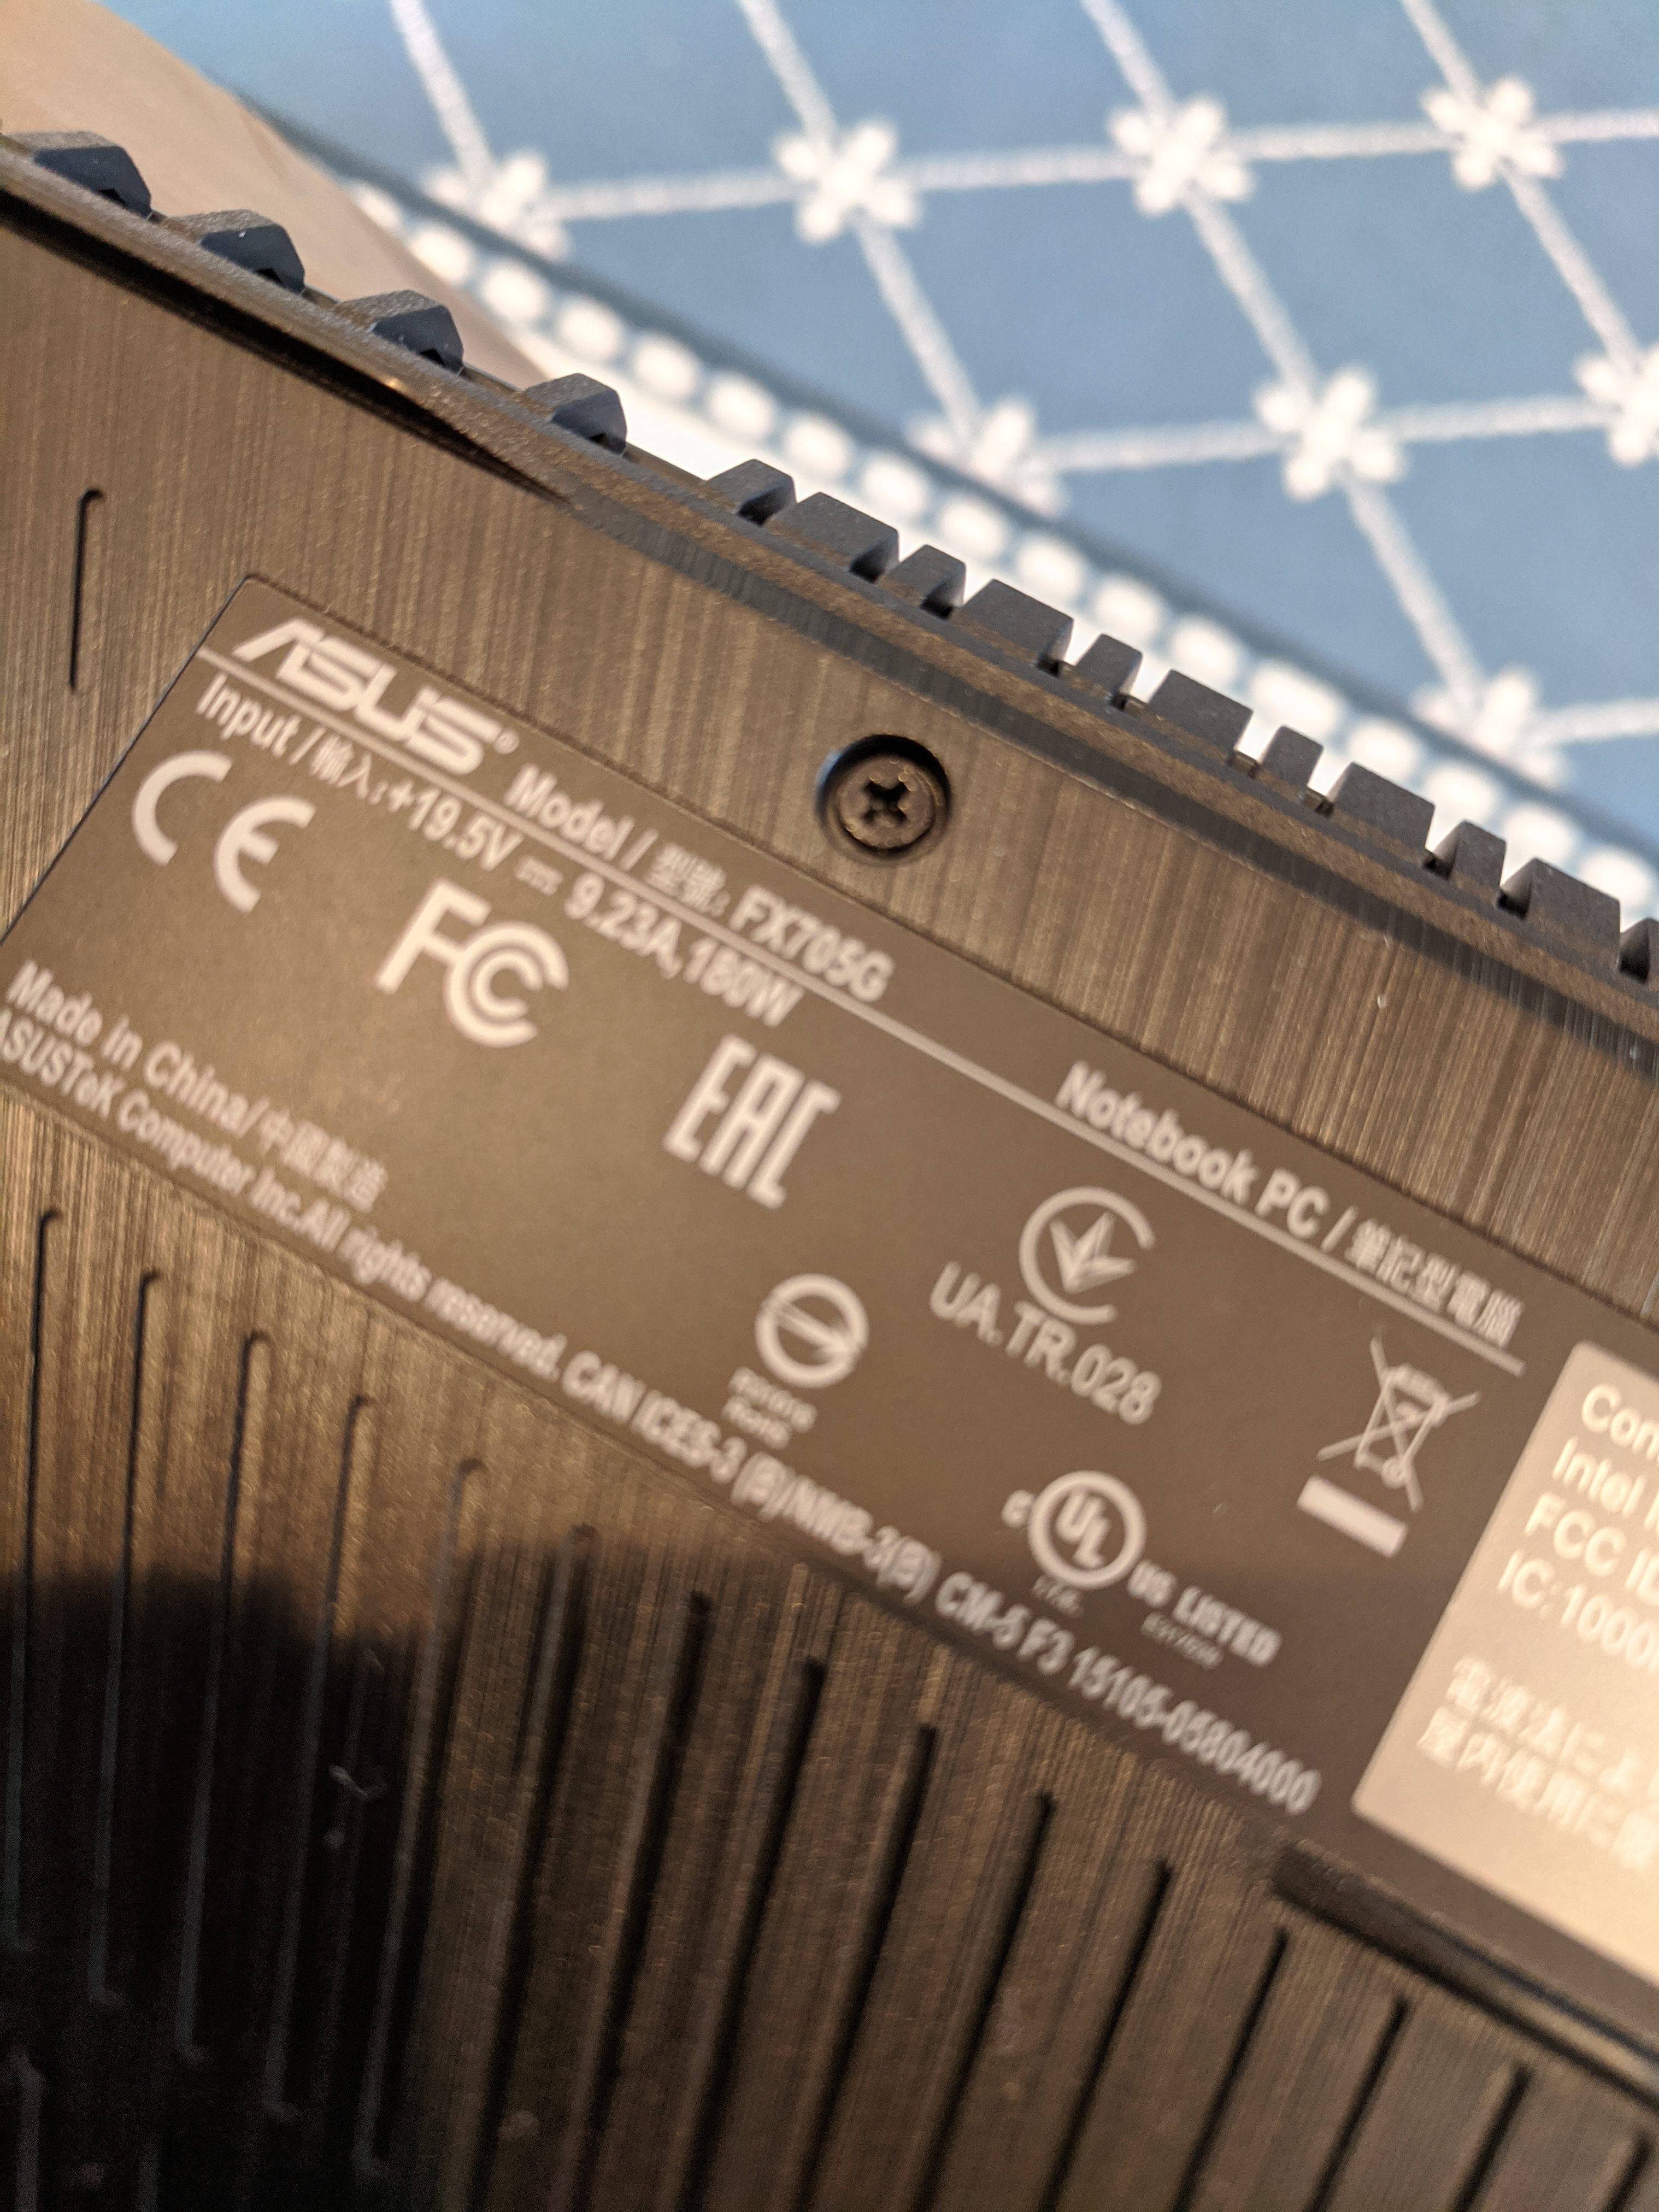cross_recessed_screw: (810, 721, 958, 862)
